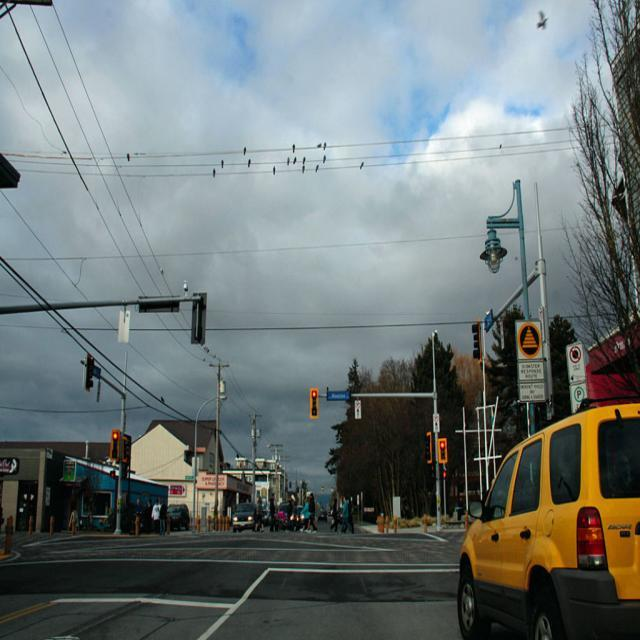traffic light: (110, 431, 121, 461), (310, 387, 319, 418), (437, 439, 447, 462)
